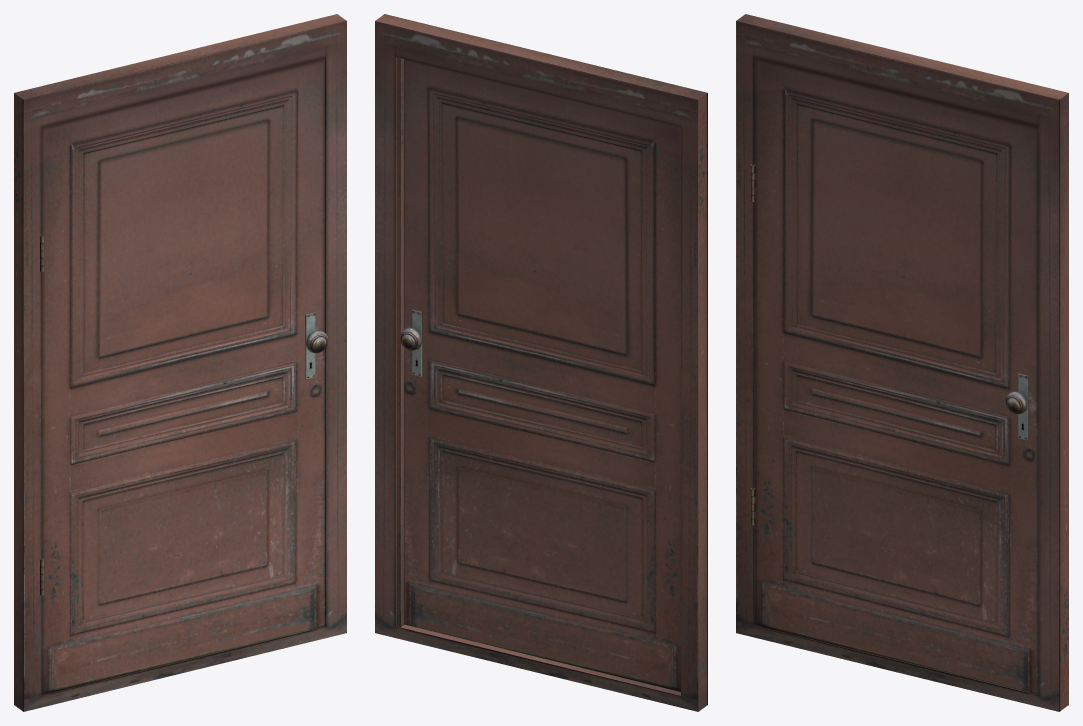
Rendered from Door_04.FBX.
The picture shows the model from 3 angles, left to right: view 1: azimuth 30°, elevation 25°; view 2: azimuth 150°, elevation 25°; view 3: azimuth 330°, elevation 25°; orthographic projection.
Visible parts, largest first — view 1: Door_04, Door_04_Frame; view 2: Door_04, Door_04_Frame; view 3: Door_04, Door_04_Frame.
Boxes of the visible parts, <box> form: Door_04: <box>40,57,328,695</box>; Door_04_Frame: <box>14,14,346,711</box>; Door_04: <box>400,59,680,691</box>; Door_04_Frame: <box>375,14,707,711</box>; Door_04: <box>751,56,1038,694</box>; Door_04_Frame: <box>736,14,1068,711</box>.
Bounding box in the file's own units: 130 × 18.33 × 236.
3 materials, 3 textured.
